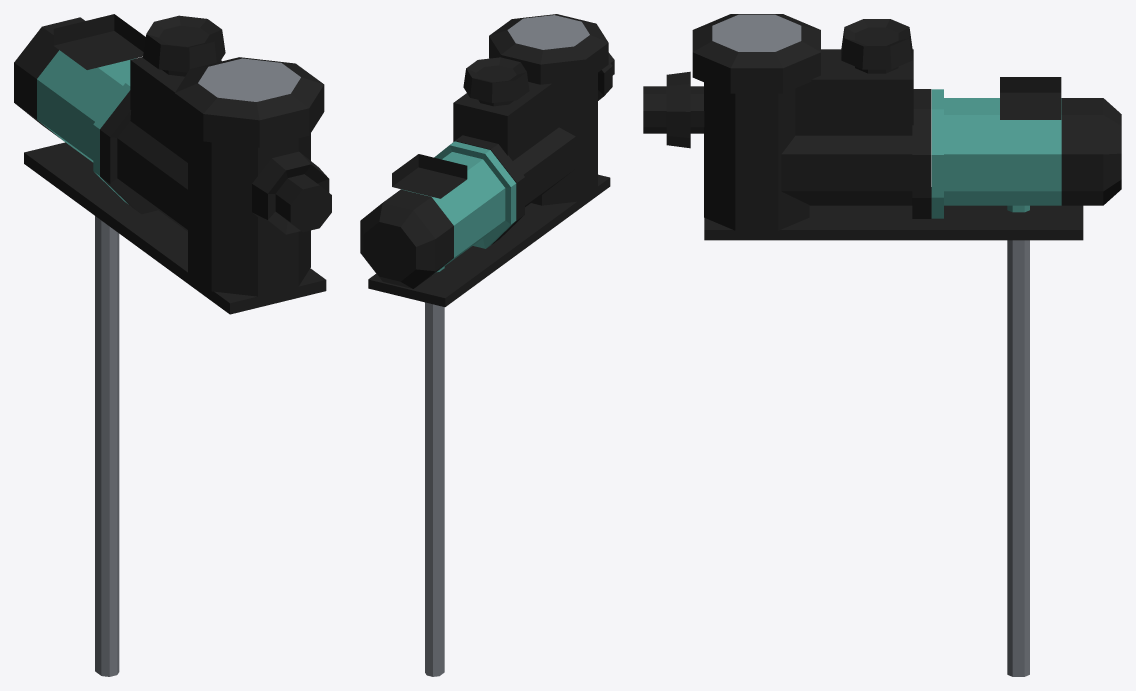
The model's file is water pump.fbx.
3 views of the same model, side by side, from view 1: azimuth 30°, elevation 25°; view 2: azimuth 150°, elevation 25°; view 3: azimuth 270°, elevation 25° (orthographic). The views are drawn at different scales.
Visible parts, largest first — view 1: Cube.001; view 2: Cube.001; view 3: Cube.001.
Boxes of the visible parts, x1,y1,x2,y2 form: Cube.001: [14, 14, 331, 676]; Cube.001: [360, 14, 614, 676]; Cube.001: [643, 14, 1121, 676].
Bounding box in the file's own units: 15.27 × 83.98 × 56.89.
